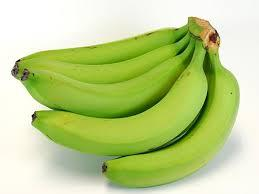banana: (3, 13, 248, 190)
